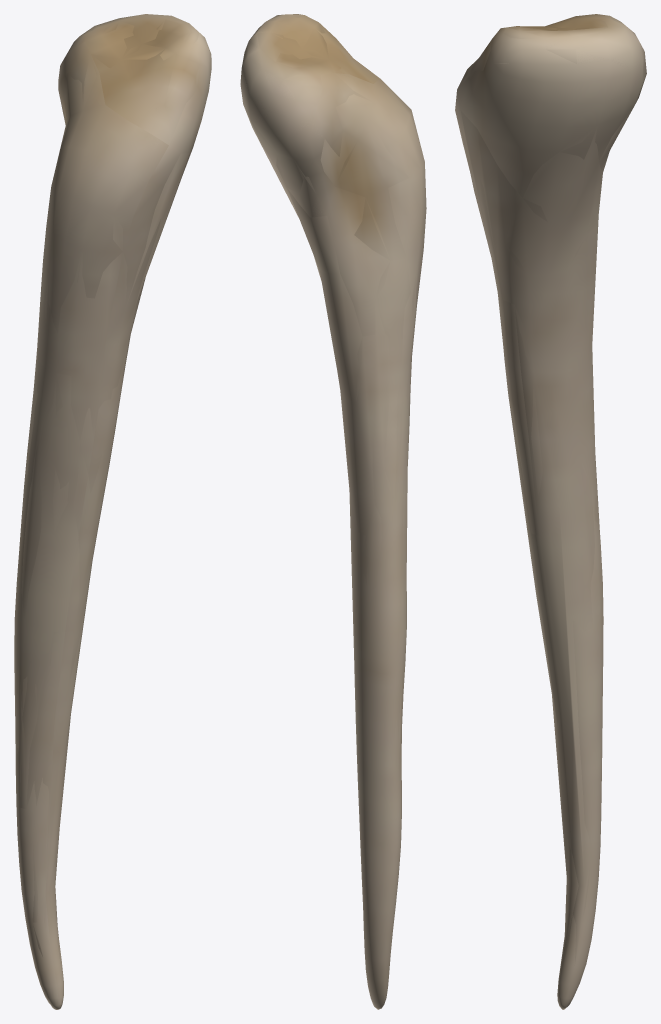
File: L metatarsi quartum.fbx
3 renders of one model, left to right at view 1: azimuth 30°, elevation 25°; view 2: azimuth 150°, elevation 25°; view 3: azimuth 270°, elevation 25°, orthographic. The views are drawn at different scales.
Parts seen in each view (by area): view 1: L metatarsi quartum, L metatarsi quartum low; view 2: L metatarsi quartum, L metatarsi quartum low; view 3: L metatarsi quartum low, L metatarsi quartum.
Boxes of the visible parts, bbox=[...] form: L metatarsi quartum: bbox=[14, 14, 211, 1009]; L metatarsi quartum low: bbox=[15, 14, 210, 980]; L metatarsi quartum: bbox=[240, 14, 426, 1009]; L metatarsi quartum low: bbox=[243, 14, 425, 1009]; L metatarsi quartum low: bbox=[458, 16, 646, 978]; L metatarsi quartum: bbox=[455, 14, 646, 1009].
Size of the model in its own units: 3.6 by 19.98 by 3.35.
1 material, 1 textured.
